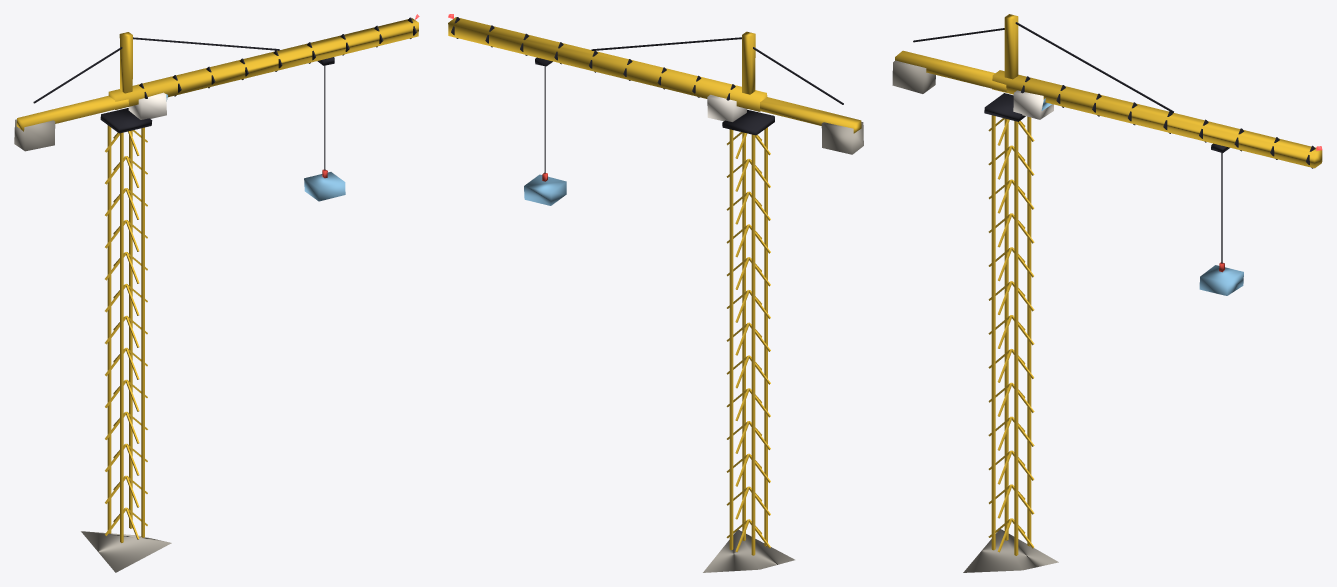
Rendered from crane.glb.
3 views of the same model, side by side, from view 1: azimuth 30°, elevation 25°; view 2: azimuth 150°, elevation 25°; view 3: azimuth 330°, elevation 25° (orthographic). The views are drawn at different scales.
Visible parts, largest first — view 1: jib.013, crane.005; view 2: jib.013, crane.005; view 3: jib.013, crane.005.
Boxes of the visible parts, x1=… form: jib.013: x1=14, y1=14, x2=419, y2=201; crane.005: x1=81, y1=125, x2=171, y2=572; jib.013: x1=448, y1=14, x2=863, y2=205; crane.005: x1=703, y1=127, x2=794, y2=572; jib.013: x1=892, y1=14, x2=1322, y2=295; crane.005: x1=963, y1=115, x2=1058, y2=572.
Size of the model in its own units: 26.16 by 32.54 by 3.98.
Materials: 1 (1 with a texture image).
